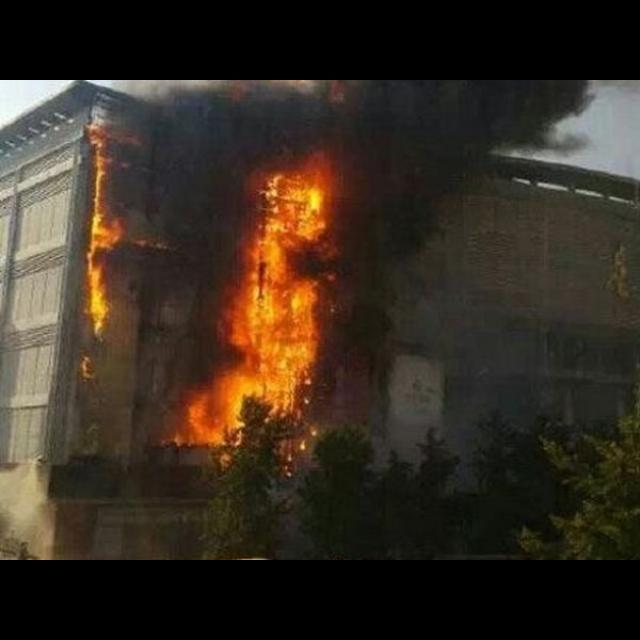Fire: (165, 169, 328, 447), (75, 126, 125, 342), (81, 354, 97, 382)
Smoke: (128, 81, 594, 170)
